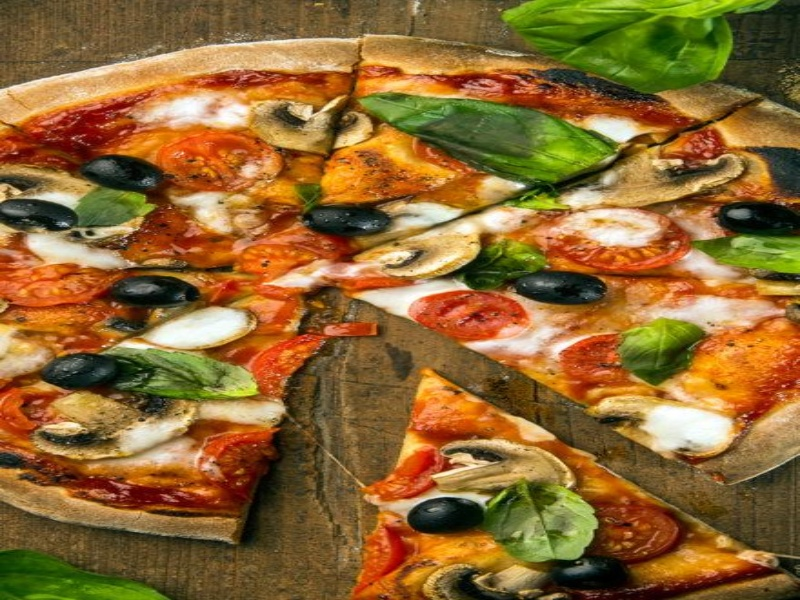champignon: (17, 385, 211, 469), (426, 436, 590, 504), (242, 93, 371, 157)
olive: (537, 546, 655, 597), (33, 352, 162, 395), (400, 486, 492, 545), (710, 189, 800, 245), (75, 149, 177, 198), (509, 265, 613, 313), (104, 272, 202, 316), (299, 200, 398, 242), (1, 195, 86, 242)
